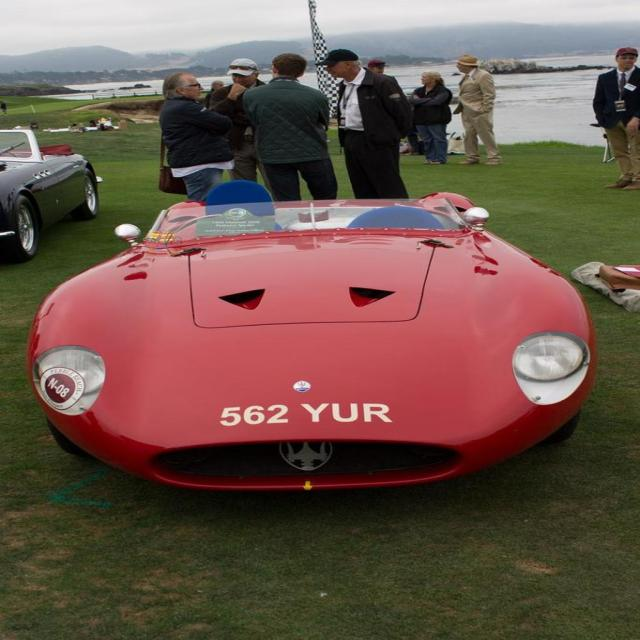car: (28, 171, 592, 481)
